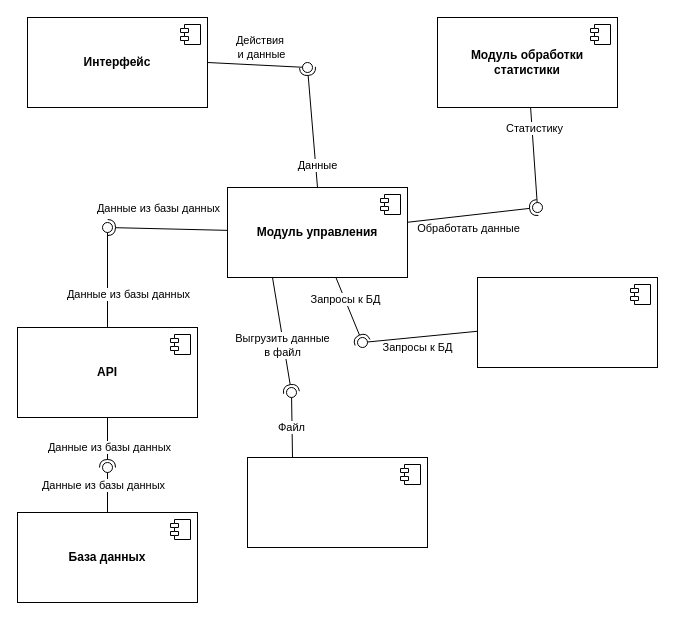
The diagram is 675 pixels wide and 620 high, and some of its shapes have lost their labels. Each missing label, with the centre of its shape:
"Модуль выгрузки файлов" belongs at [337,502].
"Модуль запросов к базе данных" belongs at [567,322].
